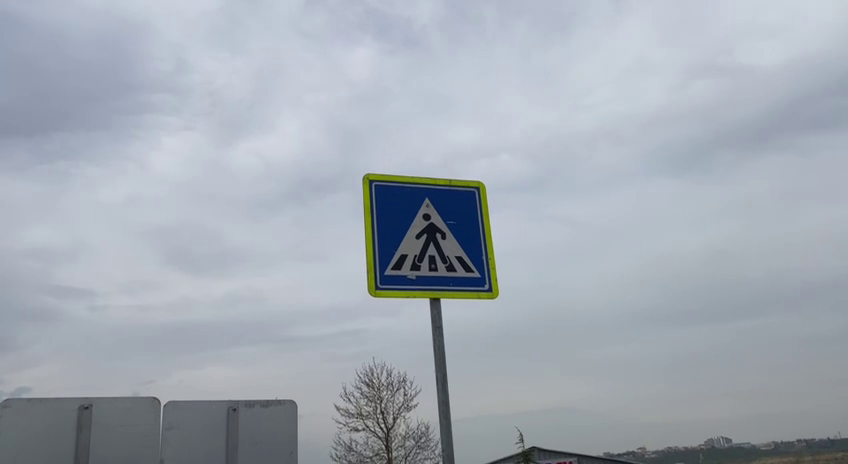pedestrianCrossing: (359, 172, 503, 303)
